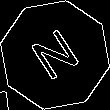N_SE: (24, 23, 86, 87)
